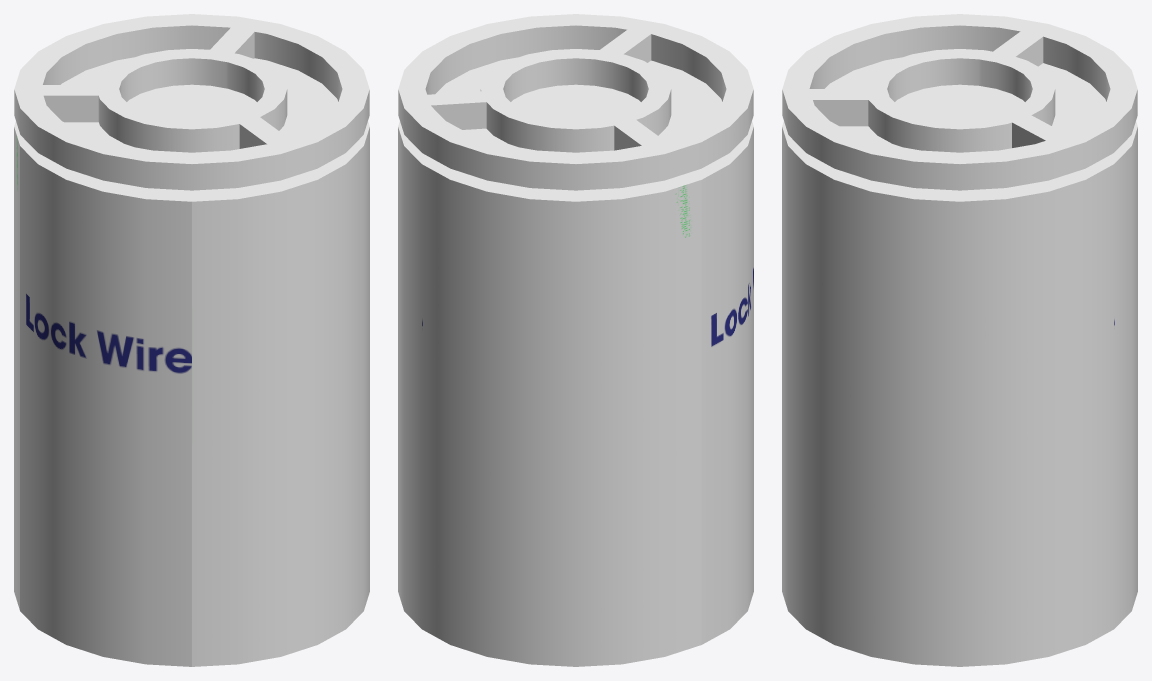
The model's file is lockwire.fbx.
3 views of the same model, side by side, from view 1: azimuth 30°, elevation 25°; view 2: azimuth 150°, elevation 25°; view 3: azimuth 270°, elevation 25° (orthographic).
Visible parts, largest first — view 1: sealant; view 2: sealant; view 3: sealant.
Boxes of the visible parts, x1,y1,x2,y2 form: sealant: (14,14,369,666); sealant: (398,14,753,666); sealant: (782,14,1137,666).
Size of the model in its own units: 360 by 562 by 360.
1 material, 1 textured.
